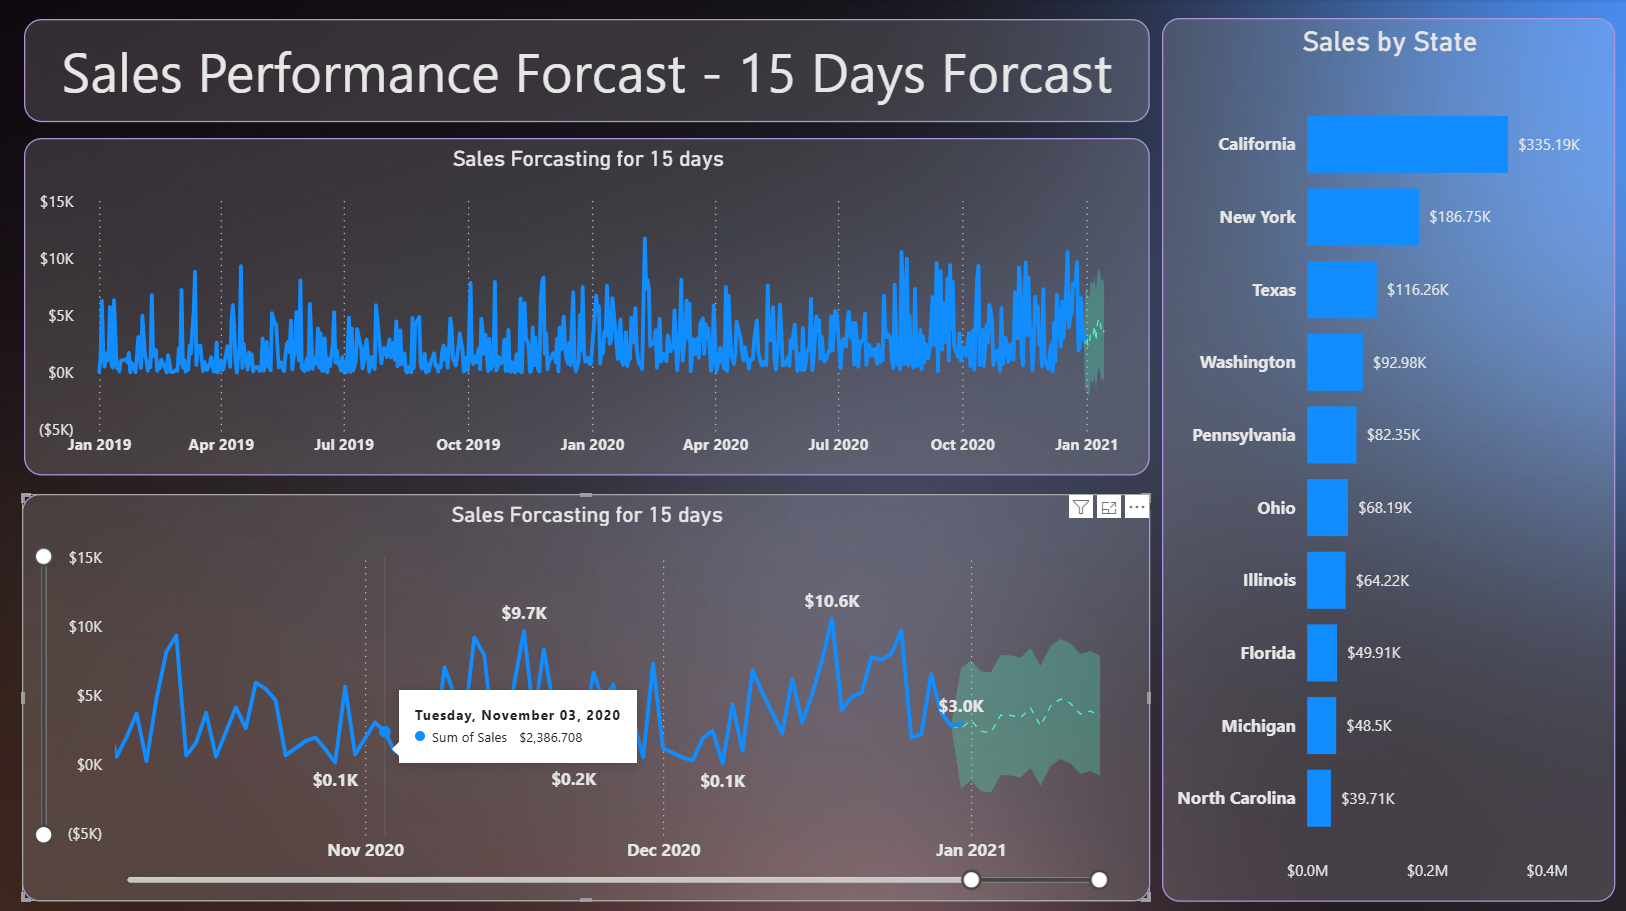

This screenshot's page, from the dashboard's own definition file:
{"tool":"powerbi","page":{"name":"Forcasting","canvas":[1280,720],"ordinal":1},"visuals":[{"type":"lineChart","title":"Sales Forcasting for 15 days","fields":{"Y":["Sum(SuperStore_Sales_Dataset.Sales)"],"Category":["SuperStore_Sales_Dataset.Order Date"]},"box":[18.7,109.4,884.2,265],"z":0},{"type":"lineChart","title":"Sales Forcasting for 15 days","fields":{"Y":["Sum(SuperStore_Sales_Dataset.Sales)"],"Category":["SuperStore_Sales_Dataset.Order Date"]},"box":[17.3,388.8,885.6,319.7],"z":1000},{"type":"textbox","box":[18.7,15.8,884.2,80.6],"z":2000},{"type":"barChart","title":"Sales by State","fields":{"Y":["Sum(SuperStore_Sales_Dataset.Sales)"],"Category":["SuperStore_Sales_Dataset.State"]},"box":[912.1,15.1,356.1,693.8],"z":3000}]}

Visuals, with their boxes in screenshot pixels (x1, y1, x2, y2), scaled from the page's 1280x720 canvas onto the 1626x911 screenshot:
"Sales Forcasting for 15 days" lineChart: x1=24, y1=138, x2=1147, y2=474
"Sales Forcasting for 15 days" lineChart: x1=22, y1=492, x2=1147, y2=896
textbox: x1=24, y1=20, x2=1147, y2=122
"Sales by State" barChart: x1=1159, y1=19, x2=1611, y2=897
